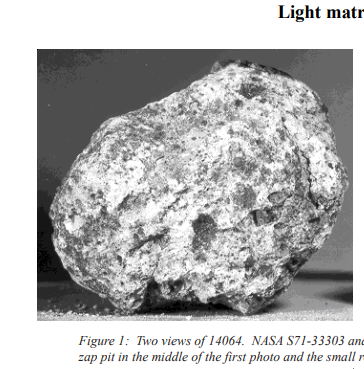Breccia: (58, 52, 334, 302)
